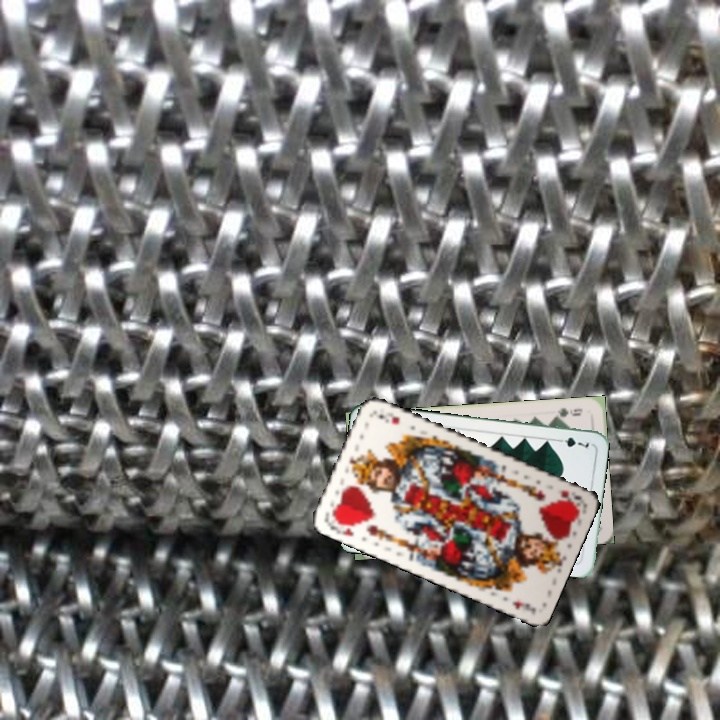G7: (552, 433, 592, 450)
G9: (549, 404, 585, 422)
HK: (323, 512, 357, 539), (556, 486, 584, 507)
